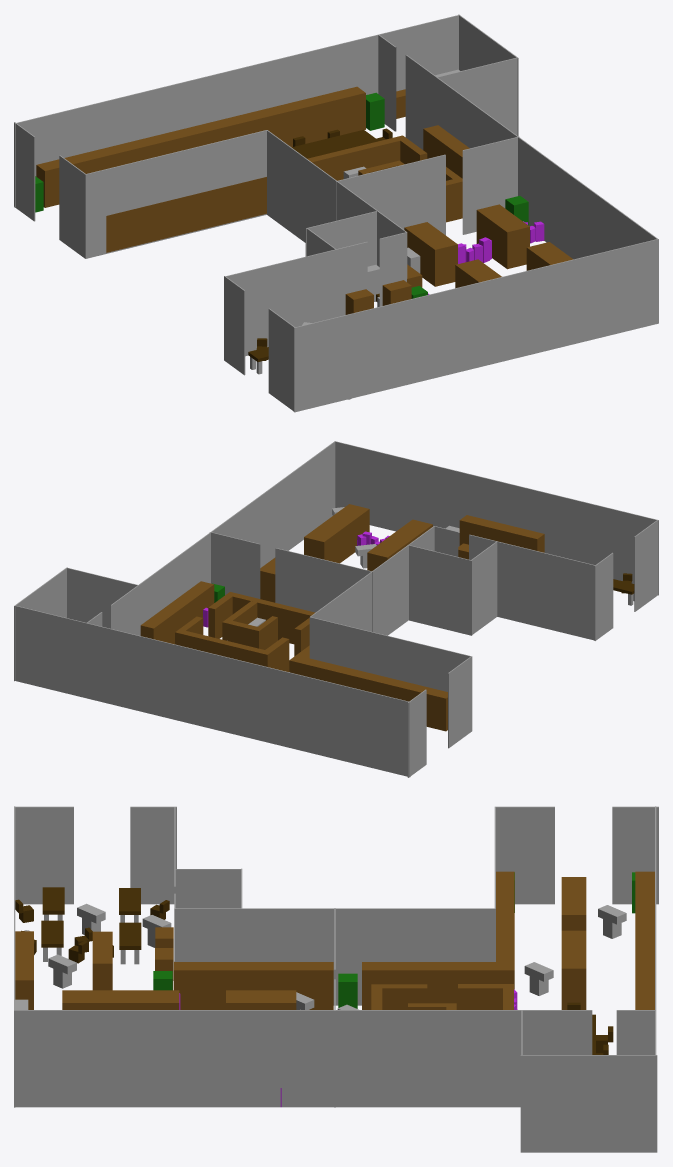
File: library_greybox_1.fbx
3 views of the same model, one above another, from view 1: azimuth 30°, elevation 25°; view 2: azimuth 150°, elevation 25°; view 3: azimuth 270°, elevation 25° (orthographic). The views are drawn at different scales.
Visible parts, largest first — view 1: library_walls; view 2: library_walls; view 3: library_walls, enemyB_8, enemyB_14, enemyB_7, enemyB_16.
Part boxes in pixels (x1=…): library_walls: x1=14, y1=14, x2=658, y2=412; library_walls: x1=14, y1=441, x2=658, y2=777; library_walls: x1=14, y1=806, x2=658, y2=1152; enemyB_8: x1=524, y1=962, x2=553, y2=995; enemyB_14: x1=48, y1=954, x2=76, y2=988; enemyB_7: x1=598, y1=905, x2=626, y2=938; enemyB_16: x1=77, y1=903, x2=105, y2=934.
Bounding box in the file's own units: 44.16 × 8.5 × 48.3.
